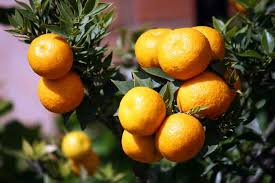orange: (180, 74, 232, 120), (28, 31, 72, 78), (120, 88, 164, 134), (162, 32, 206, 77), (162, 117, 201, 157), (134, 27, 170, 70)
